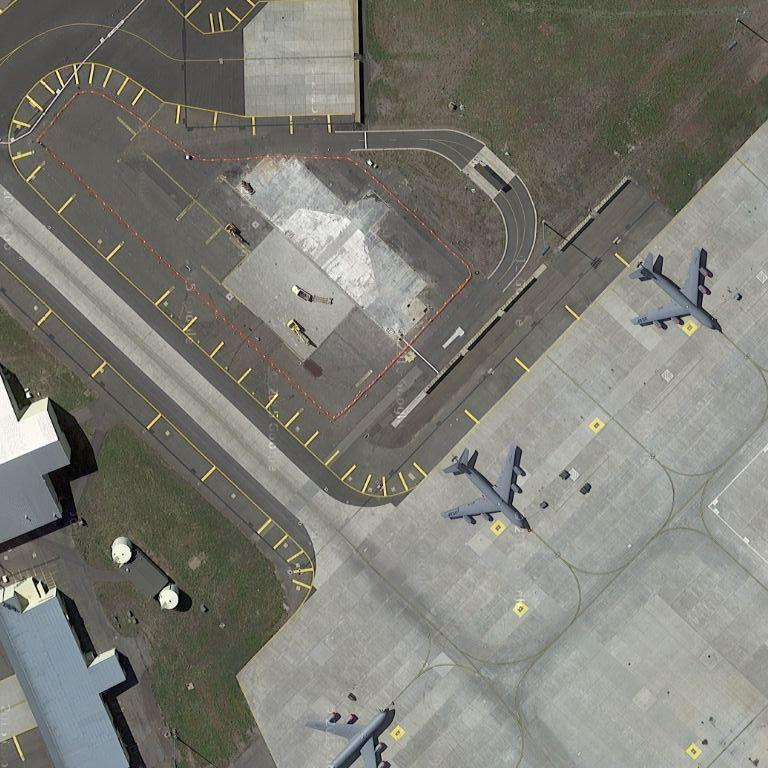KC-135: (628, 241, 726, 339), (442, 441, 537, 534), (304, 699, 404, 767)
